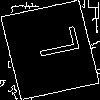L: (25, 25, 81, 62)
